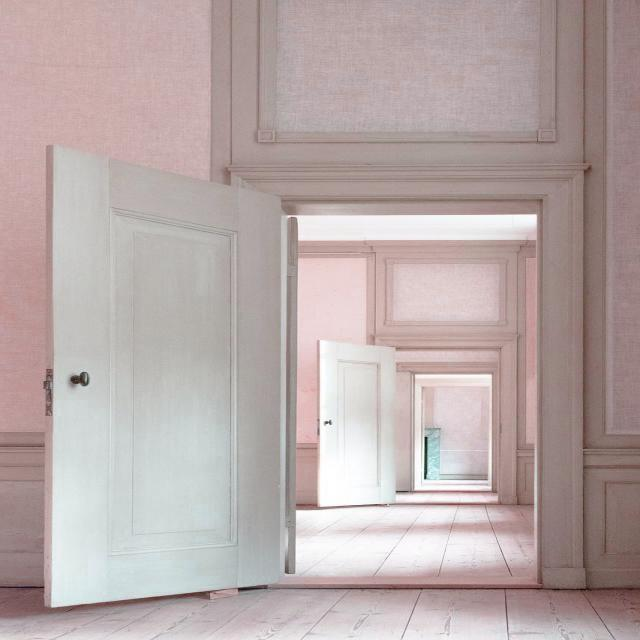door: (43, 143, 285, 607), (314, 336, 398, 510)
